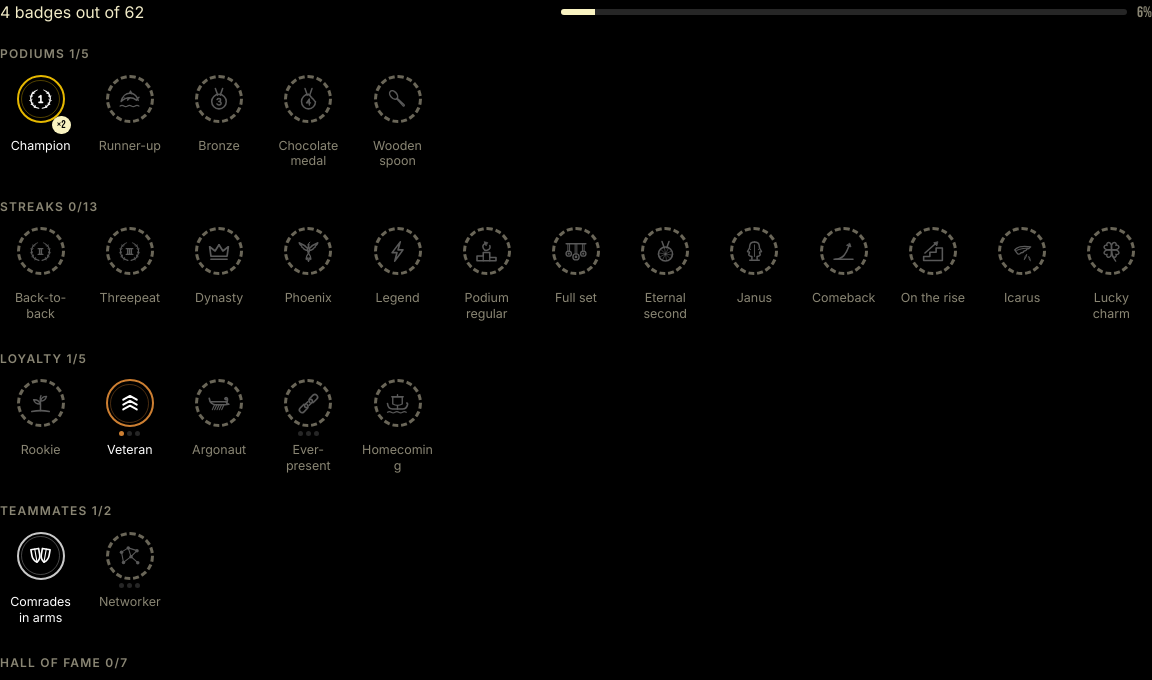
Scenario: BadgeCollection › opens a sheet on click, named after the badge, with the entry detail and next tier
The width and height of the screenshot is (1152, 680).
Click the button "Veteran": (130, 426) [89,375,170,477]
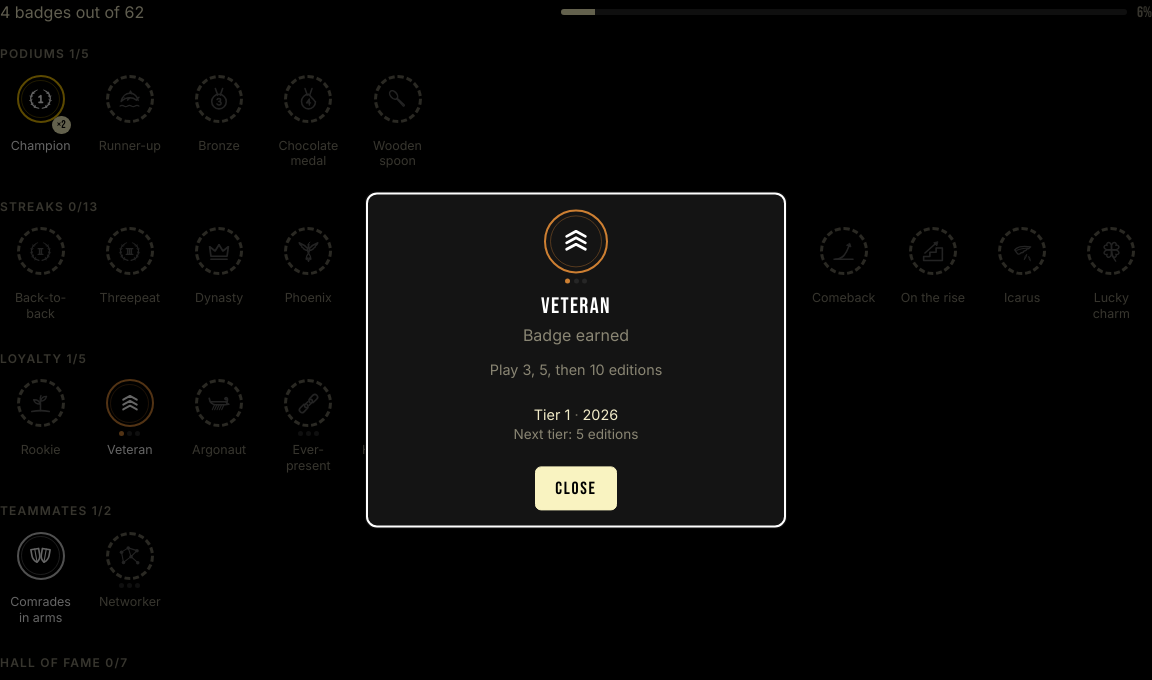
Result: the text "Badge earned" is shown at [523,325,629,345]
Result: the dialog "Veteran" shows "Play 3, 5, then 10 editions" at [490,361,662,378]
Result: the dialog "Veteran" shows "Tier 1" at [534,406,570,423]
